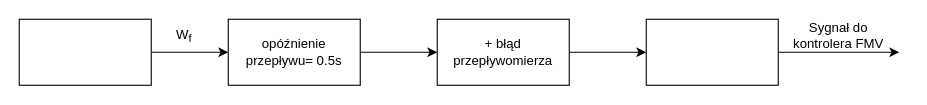
Image size: 927x105. Some labels were removed from this diagram. Each missing label, with the centre of its shape:
"Pompa paliwa" goes at (84,51).
"próbkowanie sygnału= 100 Hz" goes at (711,51).
